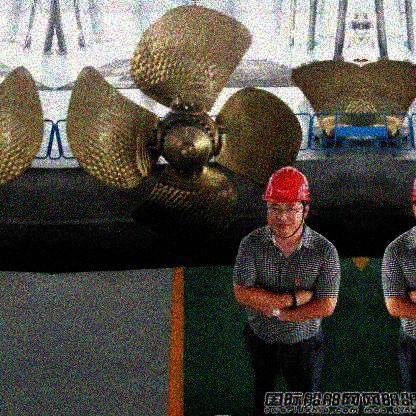helmet: (259, 166, 313, 237)
